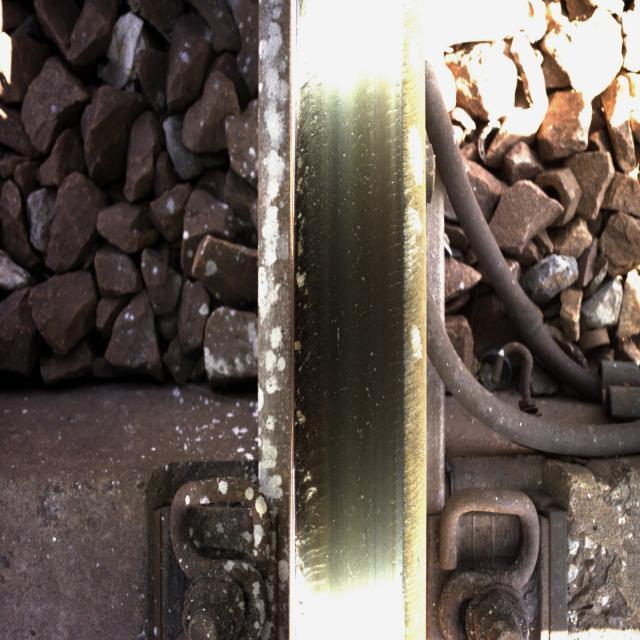crack: (290, 49, 360, 590)
